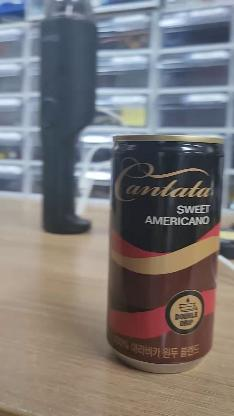Can: (105, 134, 225, 375)
